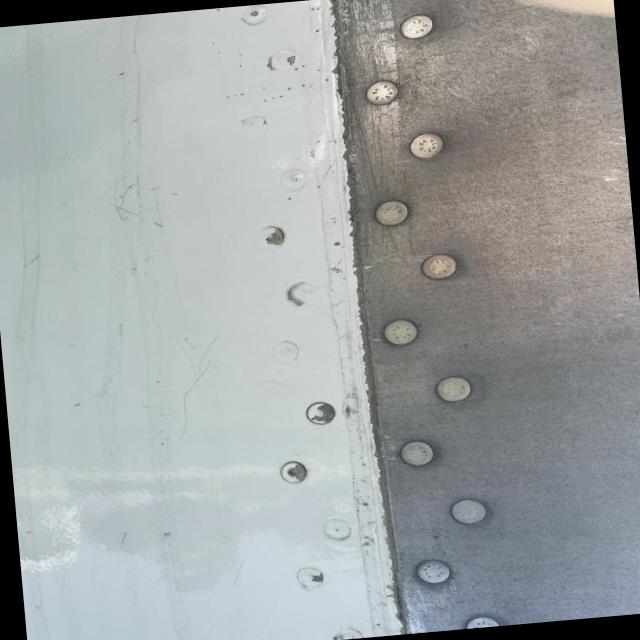crack: (166, 323, 233, 446), (109, 181, 135, 218), (229, 560, 254, 590), (120, 521, 136, 555)
